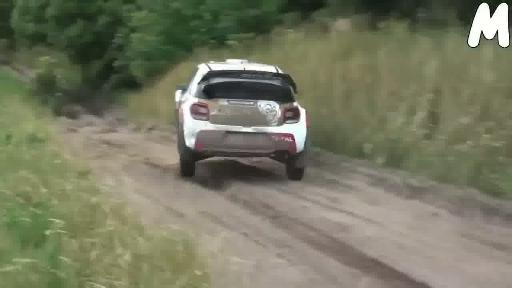CAR: (156, 37, 350, 202)
